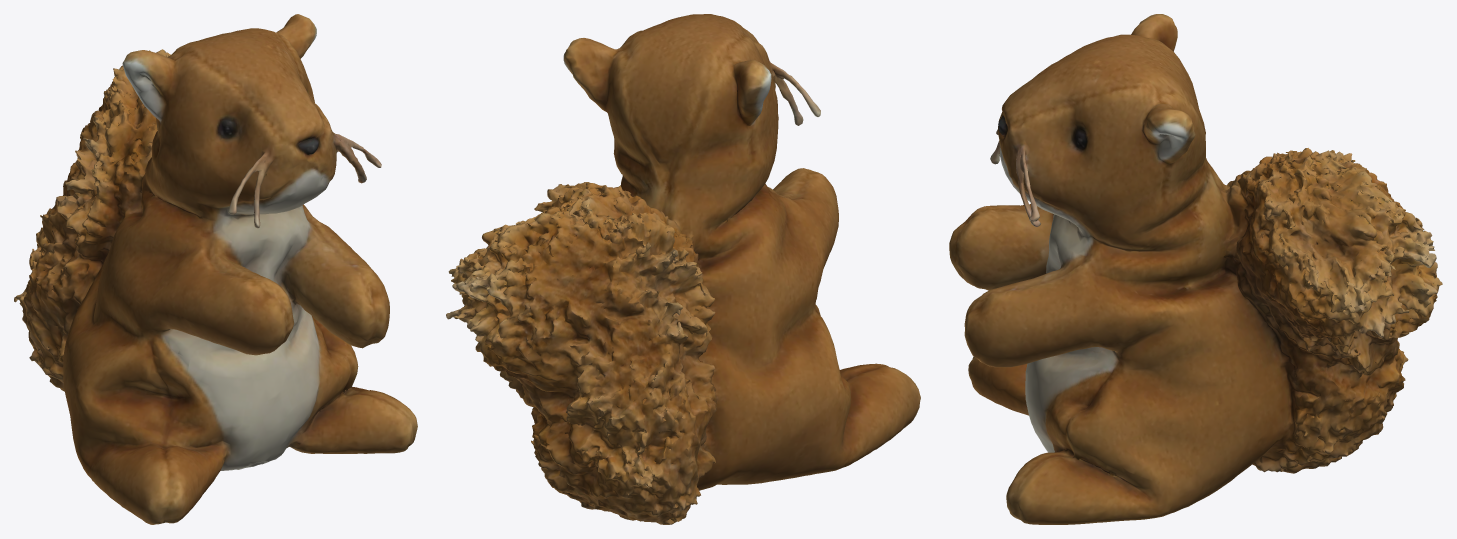
The model's file is Squirrel.glb.
3 renders of one model, left to right at view 1: azimuth 30°, elevation 25°; view 2: azimuth 150°, elevation 25°; view 3: azimuth 270°, elevation 25°, orthographic. The views are drawn at different scales.
Visible parts, largest first — view 1: Squirrel; view 2: Squirrel; view 3: Squirrel.
Boxes of the visible parts, box(x1,y1,x2,y2) form: Squirrel: box(14, 14, 417, 524); Squirrel: box(446, 14, 920, 524); Squirrel: box(949, 14, 1442, 524).
Size of the model in its own units: 0.0999 by 0.1317 by 0.1411.
1 material, 1 textured.
